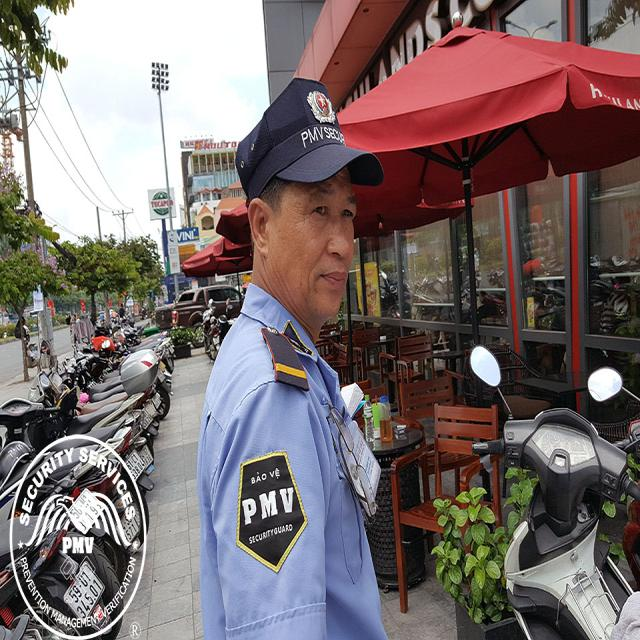Nonhelmet: (226, 69, 385, 345)
